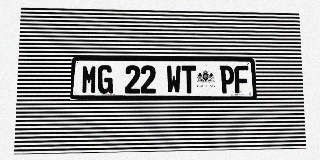2: (125, 65, 140, 94), (141, 65, 156, 94)
F: (234, 66, 249, 93)
G: (97, 65, 113, 94)
M: (81, 65, 97, 94)
P: (220, 66, 234, 93)
T: (181, 65, 196, 93)
W: (166, 65, 181, 93)
